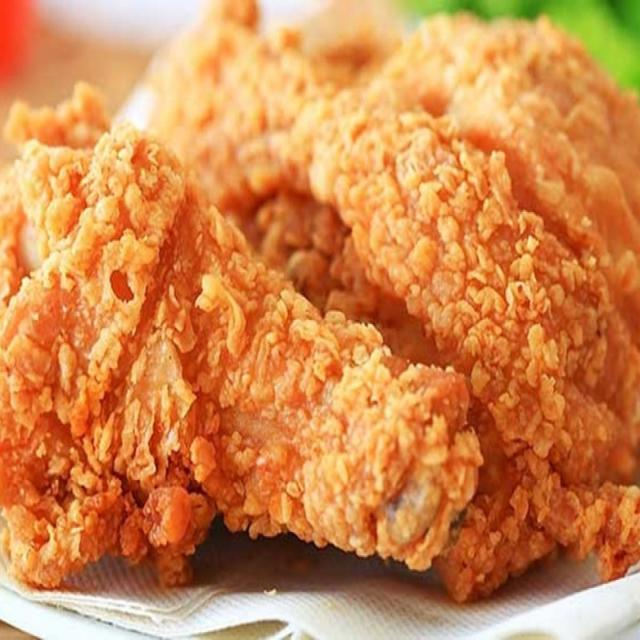Frango: (7, 126, 478, 592), (330, 92, 640, 598)
